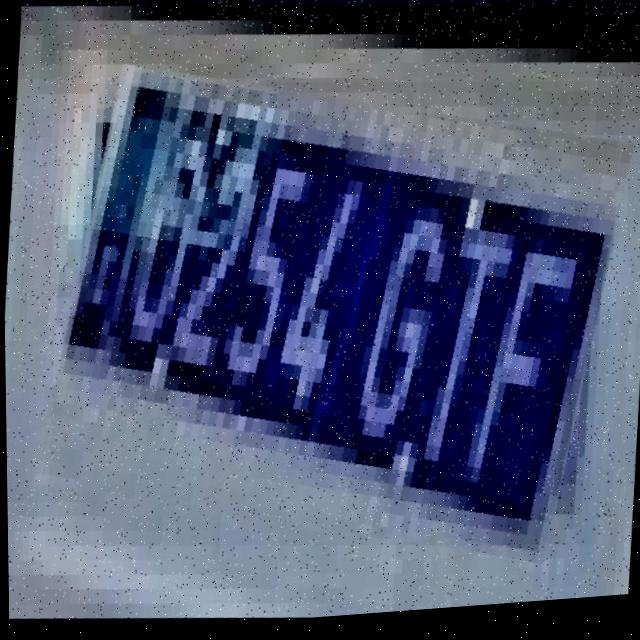LicensePlate: (38, 52, 627, 585)
